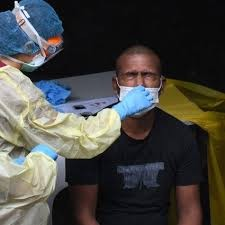Face_Shield: (12, 5, 65, 74)
Gloves: (113, 85, 155, 122)
mask_weared_incorrect: (115, 53, 162, 118)
with_mask: (19, 48, 52, 74)
